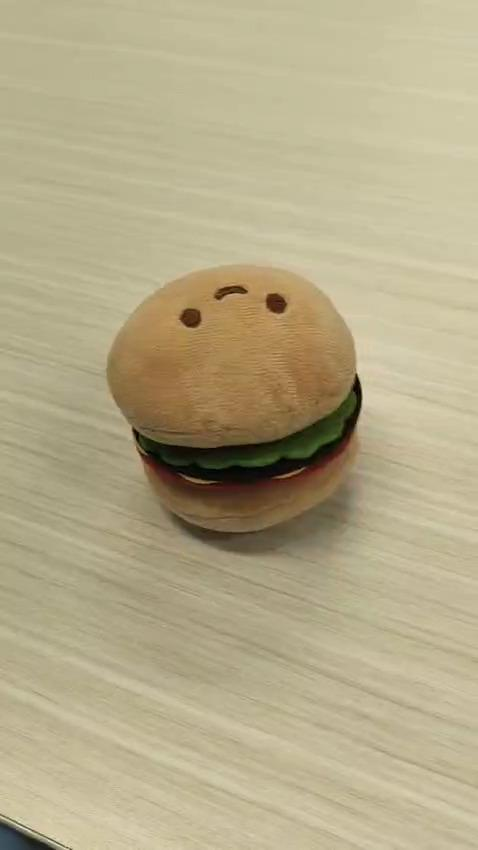hamburger: (105, 262, 363, 535)
